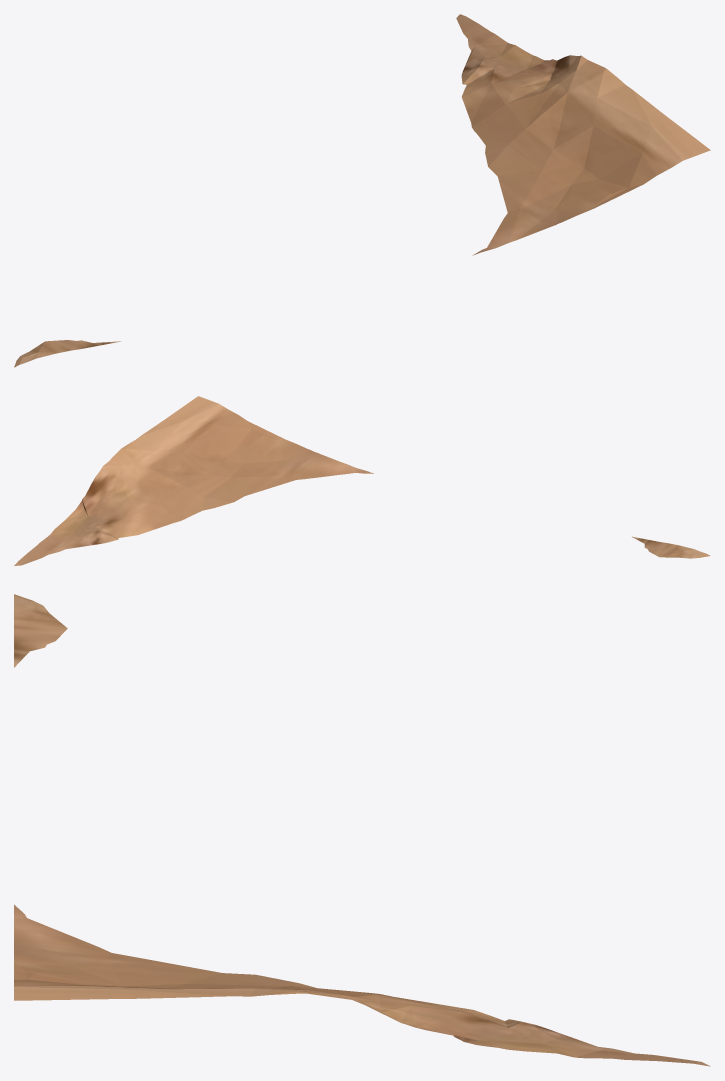
3 renders of one model, top to bottom at view 1: azimuth 30°, elevation 25°; view 2: azimuth 150°, elevation 25°; view 3: azimuth 270°, elevation 25°, orthographic. The views are drawn at different scales.
Size of the model in its own units: 0.3518 by 0.0254 by 0.2193.
Materials: 1 (1 with a texture image).
